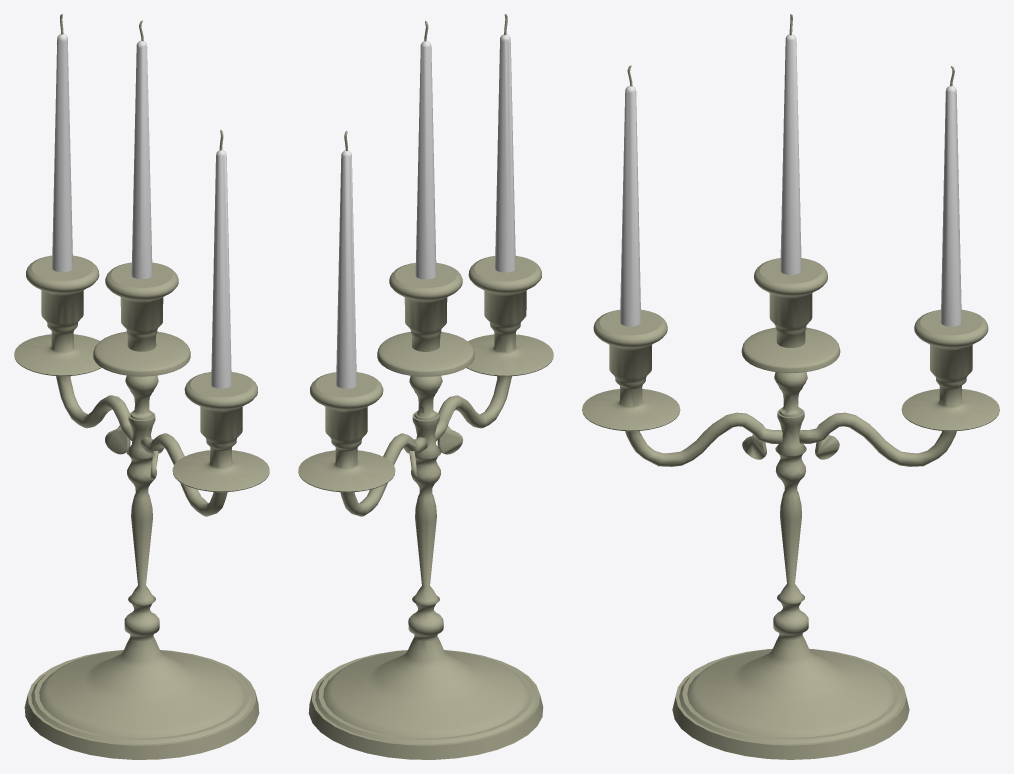
The model's file is CandleHolder.fbx.
The picture shows the model from 3 angles, left to right: view 1: azimuth 30°, elevation 25°; view 2: azimuth 150°, elevation 25°; view 3: azimuth 270°, elevation 25°; orthographic projection.
Parts seen in each view (by area): view 1: Cylinder; view 2: Cylinder; view 3: Cylinder.
Part boxes in pixels (x1=…): Cylinder: x1=14, y1=14, x2=269, y2=759; Cylinder: x1=298, y1=14, x2=553, y2=759; Cylinder: x1=582, y1=14, x2=999, y2=759.
Bounding box in the file's own units: 200 × 647 × 352.
